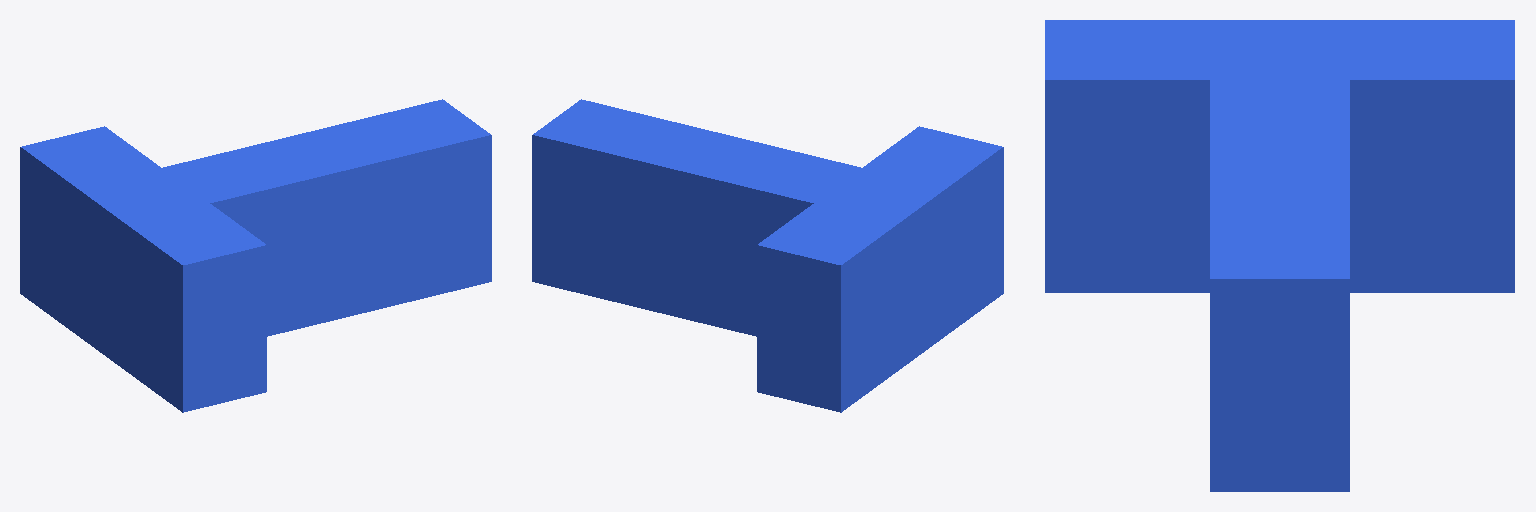
robot.urdf — TCube:
<?xml version="1.0"?>
<robot name="TCube">

<link name="world"/>

<material name="bb">
    <color rgba="0.3 0.5 1 1"/>
</material>

<link name="cubeHL">
    <visual>
        <geometry>
            <box size="0.06 0.1 0.1"/>
        </geometry>
        <material name="bb"/>
    </visual>
    <collision>
        <geometry>
            <box size="0.06 0.1 0.1"/>
        </geometry>
    </collision>
    <inertial>
        <mass value="0.2"/>
        <inertia ixx="0.00035" ixy="0" ixz="0" iyy="0.00035" iyz="0" izz="0.00035"/>
    </inertial>
</link>

<link name="cubeHR">
    <visual>
        <geometry>
            <box size="0.06 0.1 0.1"/>
        </geometry>
        <material name="bb"/>
    </visual>
    <collision>
        <geometry>
            <box size="0.06 0.1 0.1"/>
        </geometry>
    </collision>
    <inertial>
        <mass value="0.2"/>
        <inertia ixx="0.00035" ixy="0" ixz="0" iyy="0.00035" iyz="0" izz="0.00035"/>
    </inertial>
</link>

<link name="cubeV1">
    <visual>
        <geometry>
            <box size="0.1 0.06 0.1"/>
        </geometry>
        <material name="bb"/>
    </visual>
    <collision>
        <geometry>
            <box size="0.1 0.06 0.1"/>
        </geometry>
    </collision>
    <inertial>
        <mass value="0.2"/>
        <inertia ixx="0.00035" ixy="0" ixz="0" iyy="0.00035" iyz="0" izz="0.00035"/>
    </inertial>
</link>

<link name="cubeV2">
    <visual>
        <geometry>
            <box size="0.1 0.06 0.1"/>
        </geometry>
        <material name="bb"/>
    </visual>
    <collision>
        <geometry>
            <box size="0.1 0.06 0.1"/>
        </geometry>
    </collision>
    <inertial>
        <mass value="0.2"/>
        <inertia ixx="0.00035" ixy="0" ixz="0" iyy="0.00035" iyz="0" izz="0.00035"/>
    </inertial>
</link>

<link name="center"/>

<joint name="cube_plane_joint" type="floating">
    <parent link="world"/>
    <child link="center"/>
    <origin xyz="0 0 0.1" rpy="0 0 0"/>
</joint>


<joint name="Horizontal_joint_left" type="fixed">
    <parent link="center"/>
    <child link="cubeHL"/>
    <origin xyz="0 -0.05 0" rpy="0 0 0"/>
</joint>

<joint name="Horizontal_joint_right" type="fixed">
    <parent link="center"/>
    <child link="cubeHR"/>
    <origin xyz="0 0.05 0" rpy="0 0 0"/>
</joint>

<joint name="Horizontal_joint_bottom1" type="fixed">
    <parent link="center"/>
    <child link="cubeV1"/>
    <origin xyz="0.08 0 0" rpy="0 0 0"/>
</joint>

<joint name="Horizontal_joint_bottom2" type="fixed">
    <parent link="cubeV1"/>
    <child link="cubeV2"/>
    <origin xyz="0.1 0 0" rpy="0 0 0"/>
</joint>

</robot>

--- Render facts (derived) ---
The picture shows the robot from 3 angles, left to right: view 1: azimuth 30°, elevation 25°; view 2: azimuth 150°, elevation 25°; view 3: azimuth 270°, elevation 25°; orthographic projection.
Model TCube with 6 links and 5 joints (4 fixed, 1 floating), rooted at world, posed all joints at 0.
Visible links, largest first — view 1: cubeHL, cubeV2, cubeV1, cubeHR; view 2: cubeHR, cubeV2, cubeV1, cubeHL; view 3: cubeHL, cubeHR, cubeV2, cubeV1.
Link boxes in pixels (<box>): cubeHL: <box>102,186,266,412</box>; cubeV2: <box>302,99,491,315</box>; cubeV1: <box>163,134,350,336</box>; cubeHR: <box>20,126,185,352</box>; cubeHR: <box>757,186,921,412</box>; cubeV2: <box>532,99,721,315</box>; cubeV1: <box>673,134,860,336</box>; cubeHL: <box>838,126,1003,352</box>; cubeHL: <box>1045,20,1279,292</box>; cubeHR: <box>1280,20,1514,292</box>; cubeV2: <box>1210,179,1349,491</box>; cubeV1: <box>1210,80,1349,178</box>.
Bounding box of the posed robot: 0.26 × 0.2 × 0.1 m (x, y, z).
Geometry: primitives only (box / cylinder / sphere), no mesh files.
